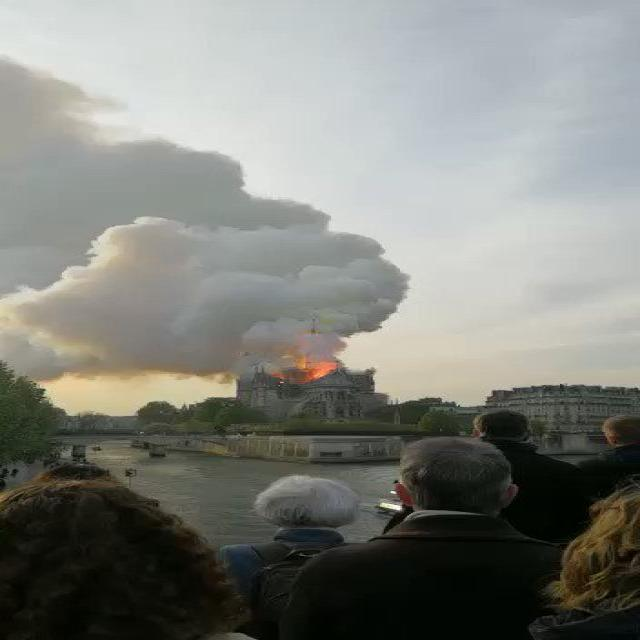Fire: (265, 354, 348, 384)
Smoke: (0, 49, 423, 388)
